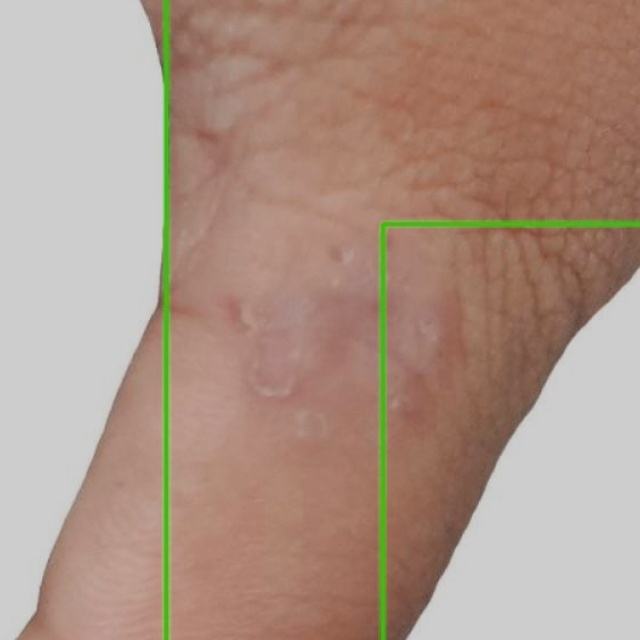Scabies: (383, 224, 639, 639), (0, 0, 166, 639)
